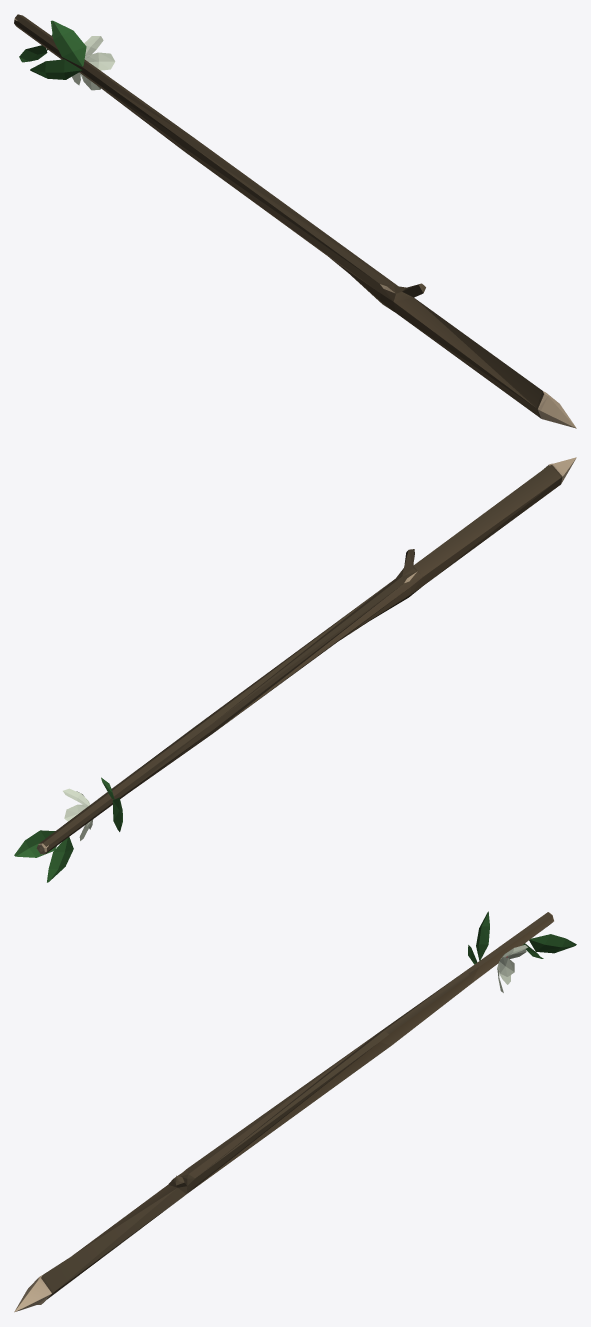
File: sharpenedBranchArrow.glb
3 views of the same model, one above another, from view 1: azimuth 30°, elevation 25°; view 2: azimuth 150°, elevation 25°; view 3: azimuth 330°, elevation 25° (orthographic). The views are drawn at different scales.
Parts seen in each view (by area): view 1: sharpenedBranchArrow; view 2: sharpenedBranchArrow; view 3: sharpenedBranchArrow.
Part boxes in pixels (x1=…): sharpenedBranchArrow: x1=14, y1=14, x2=576, y2=428; sharpenedBranchArrow: x1=14, y1=457, x2=576, y2=882; sharpenedBranchArrow: x1=14, y1=911, x2=576, y2=1312.
Bounding box in the file's own units: 0.0719 × 0.0788 × 1.03.
